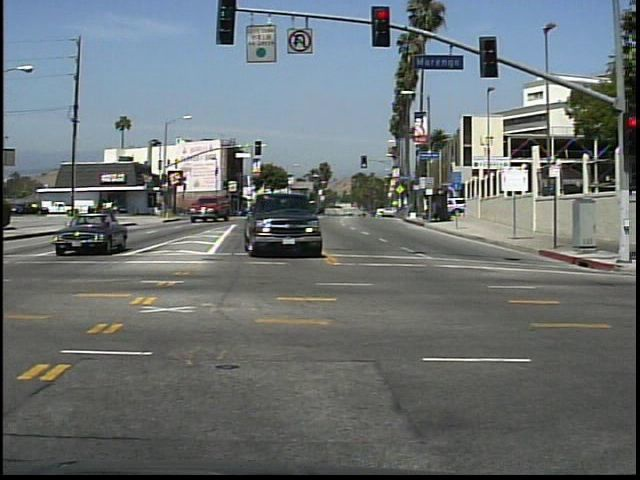person: (93, 196, 109, 224)
